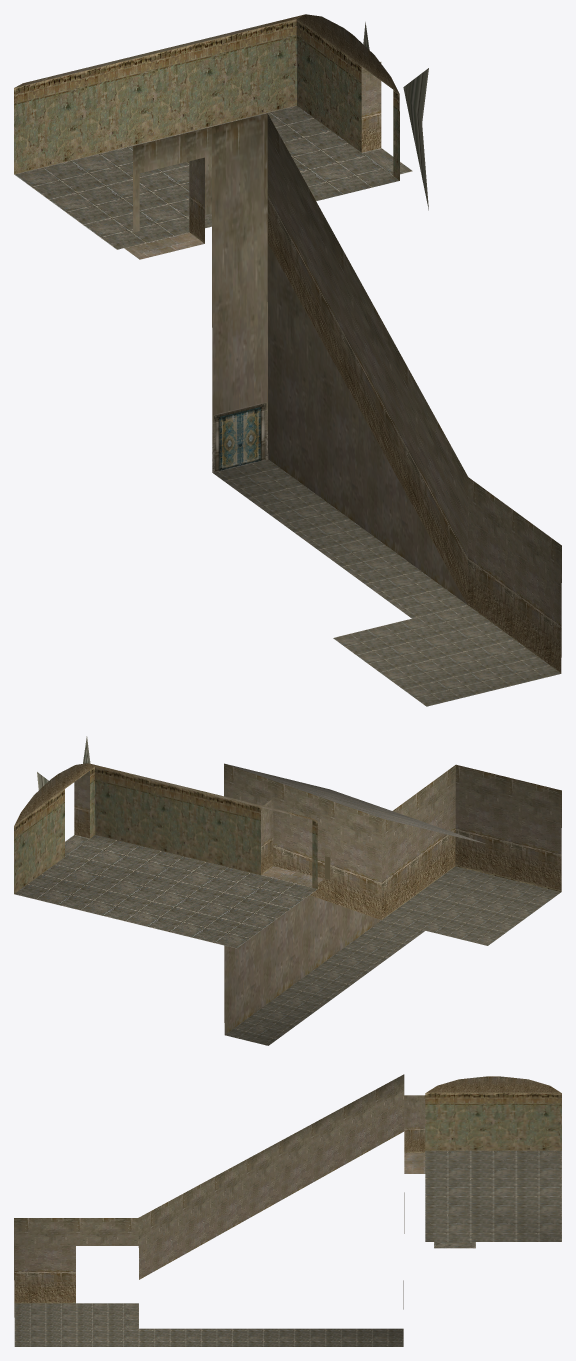
The model's file is M7_InnerStairs.glb.
3 renders of one model, top to bottom at view 1: azimuth 30°, elevation 25°; view 2: azimuth 150°, elevation 25°; view 3: azimuth 270°, elevation 25°, orthographic. The views are drawn at different scales.
Visible parts, largest first — view 1: M7_INNERSTAIRS; view 2: M7_INNERSTAIRS; view 3: M7_INNERSTAIRS.
Boxes of the visible parts, bbox=[...] form: M7_INNERSTAIRS: bbox=[14, 14, 561, 706]; M7_INNERSTAIRS: bbox=[14, 736, 561, 1045]; M7_INNERSTAIRS: bbox=[14, 1074, 561, 1346].
Bounding box in the file's own units: 11 × 12 × 26.02.
Materials: 8 (8 with a texture image).
